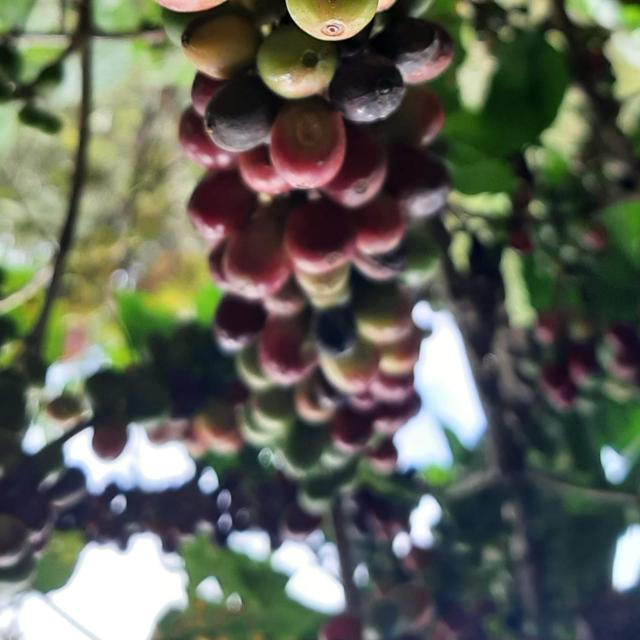green: (257, 23, 339, 98)
red: (204, 73, 281, 151), (329, 49, 406, 123), (373, 17, 456, 83)
yellow: (181, 4, 261, 78), (286, 0, 379, 40)
